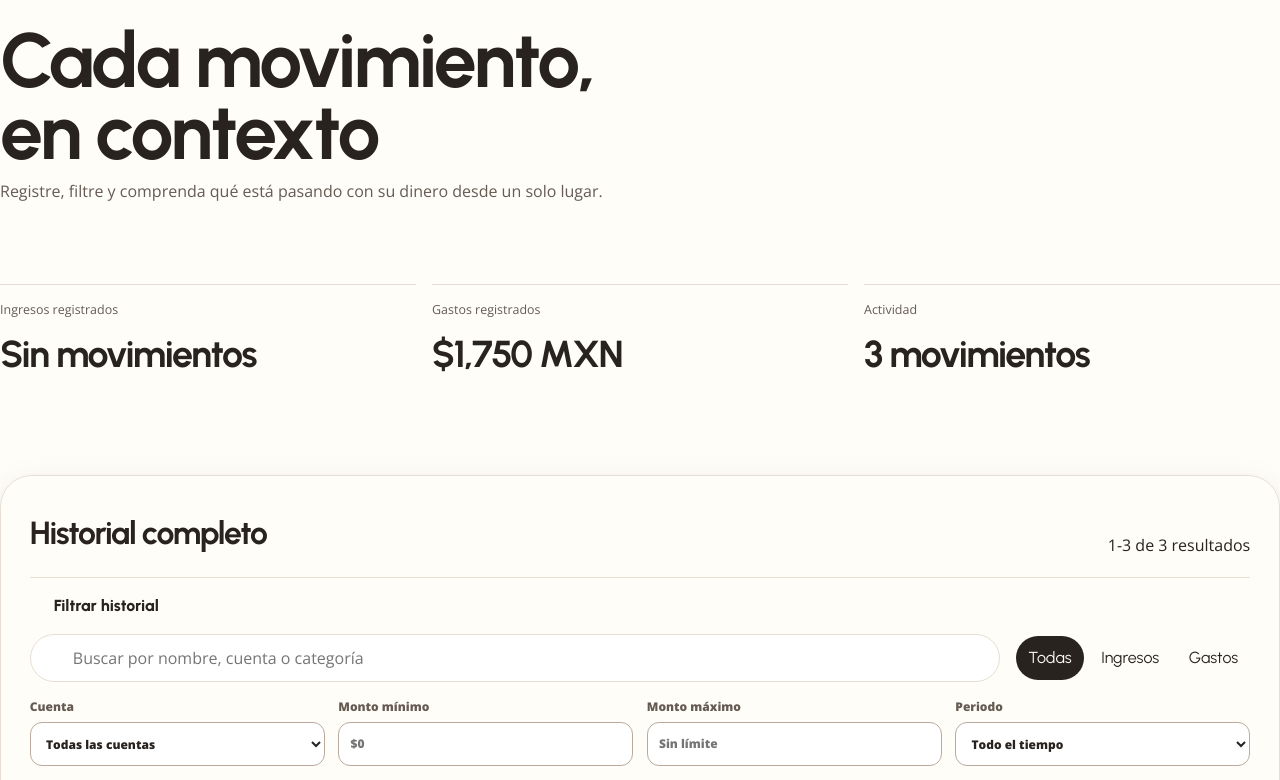
Test: transaction history filters › combines account, amount, and historical period filters
Select "Cuenta diaria" in the dropdown labelled "Cuenta" at (177, 744), box [30, 722, 325, 766]
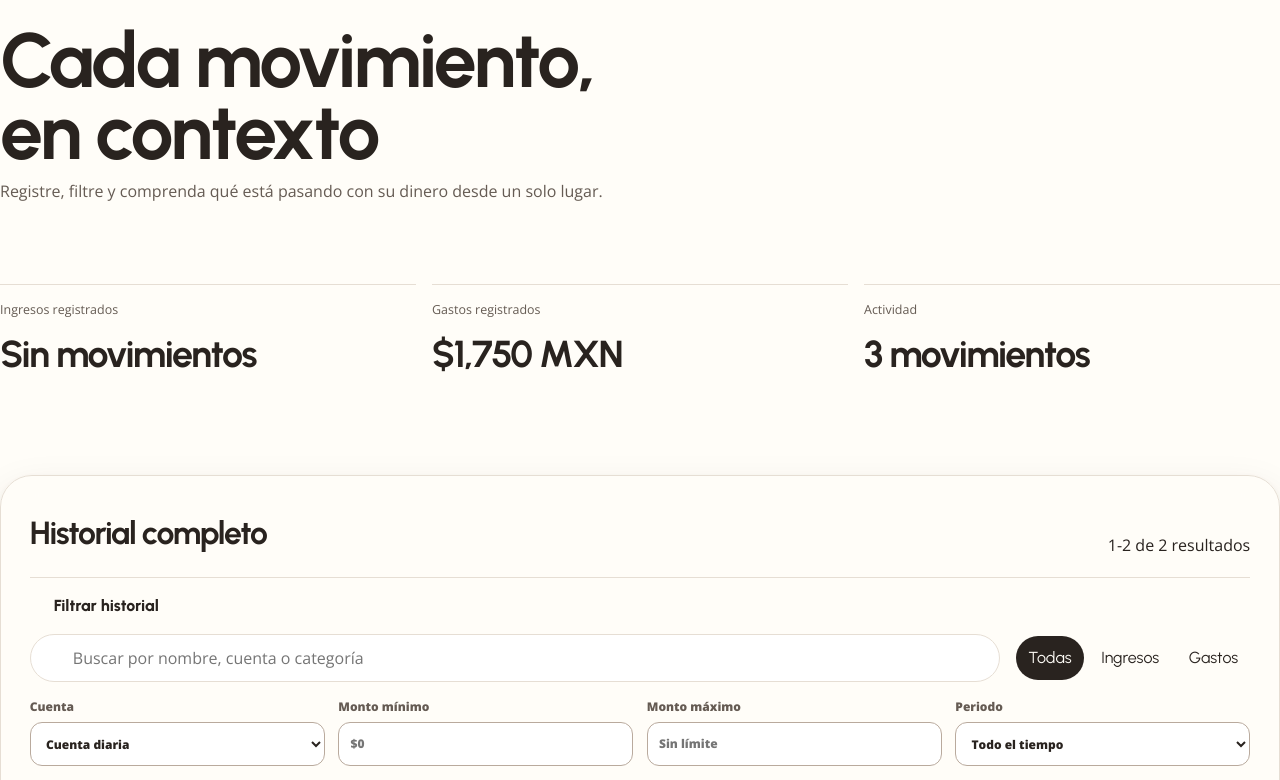
Type "500" into the number field labelled "Monto mínimo".
click(486, 744); type("500")  # box [338, 722, 633, 766]
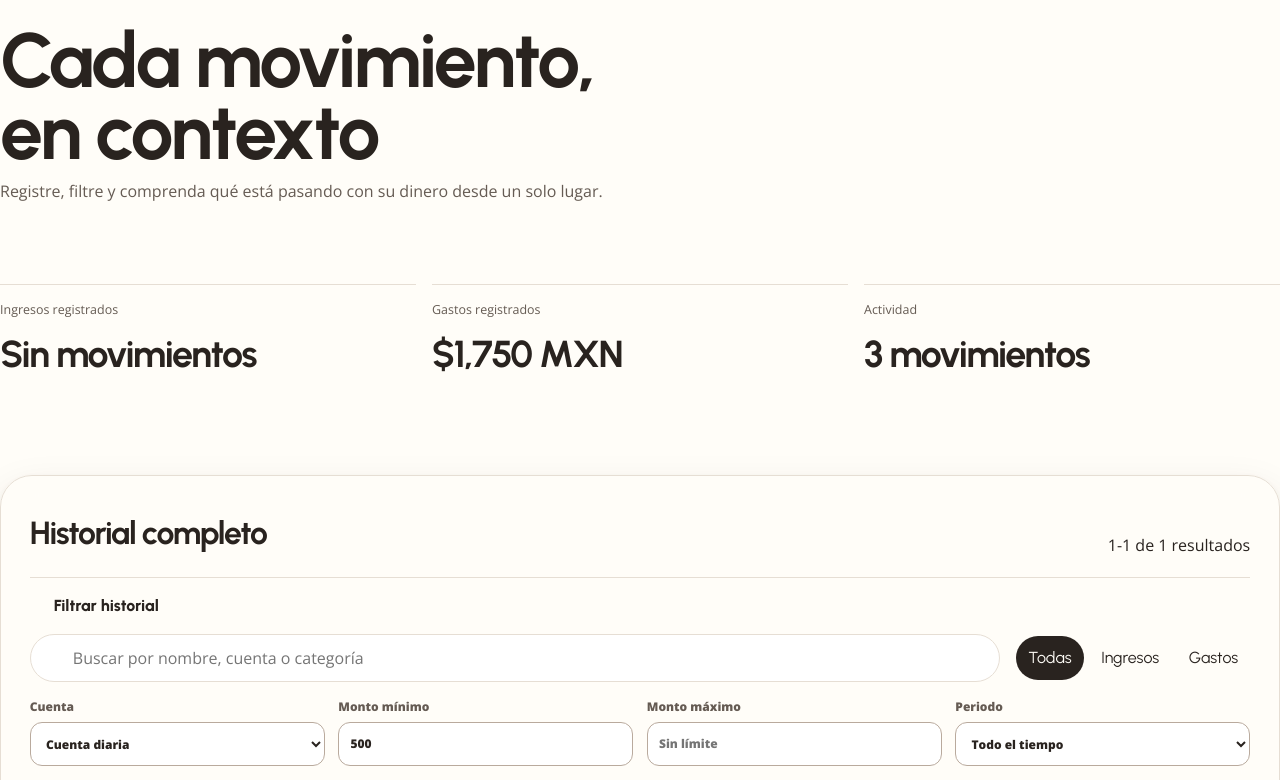
Type "800" into the number field labelled "Monto máximo".
click(794, 744); type("800")  # box [647, 722, 942, 766]
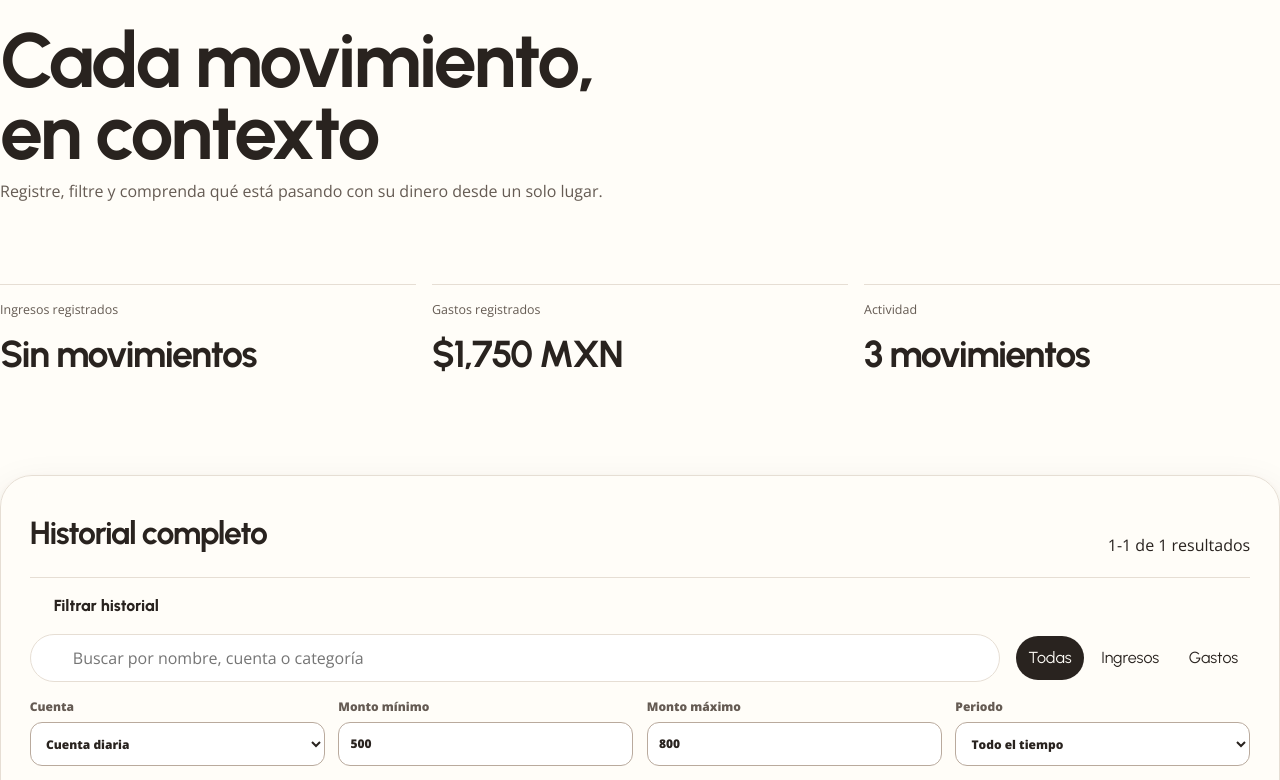
Select "Semana" in the dropdown labelled "Periodo" at (1103, 744), box [955, 722, 1250, 766]
(page scrolled)
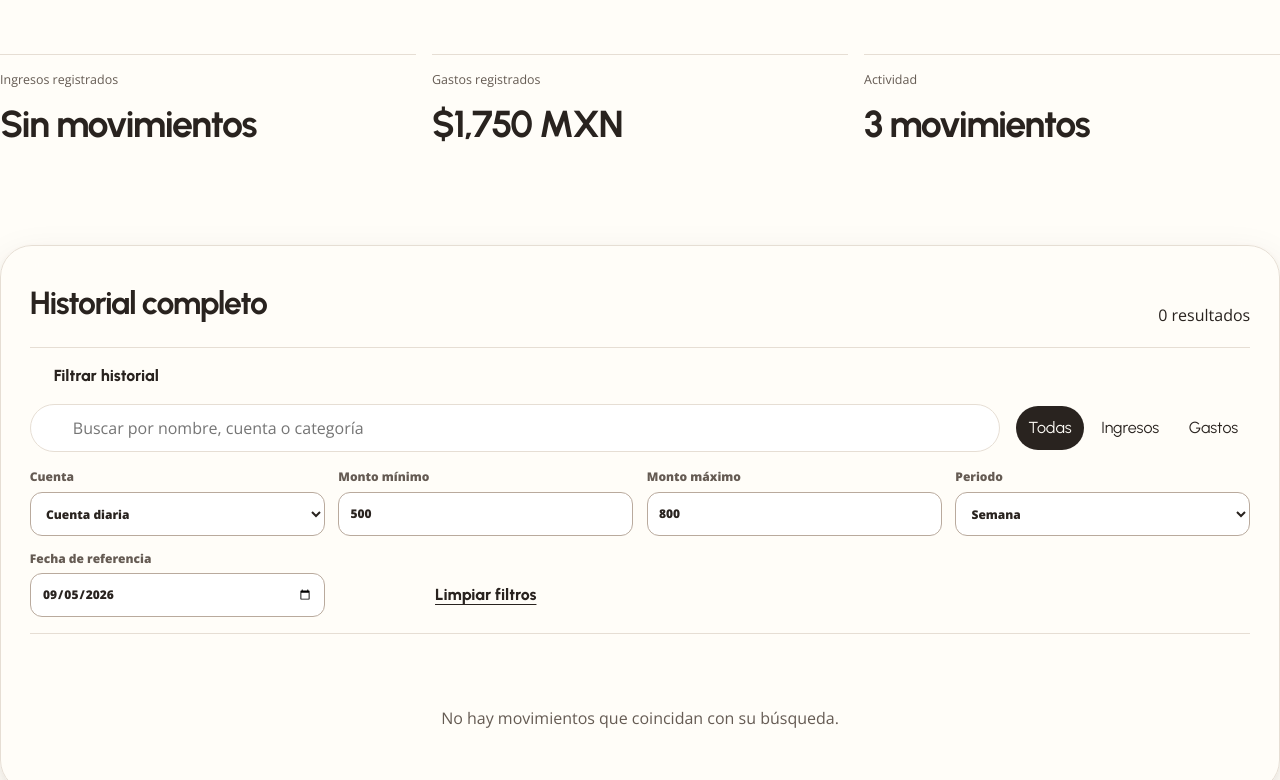
Type "2026-07-24" into the date field labelled "Fecha de referencia".
click(177, 595); type("2026-07-24")  # box [30, 573, 325, 617]
(page scrolled)
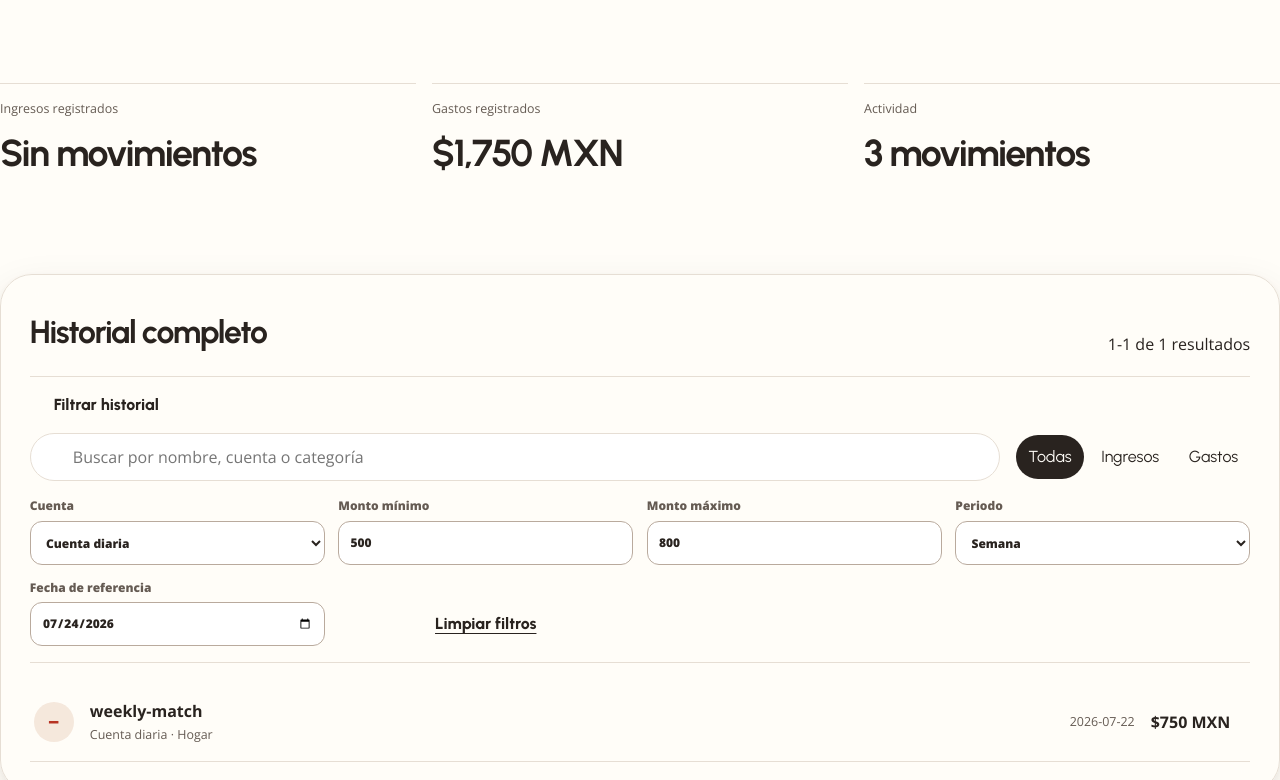
Check: the text "weekly-match" is shown, box [90, 700, 202, 722]
Check: the text "1-1 de 1 resultados" is shown, box [1108, 332, 1250, 356]
